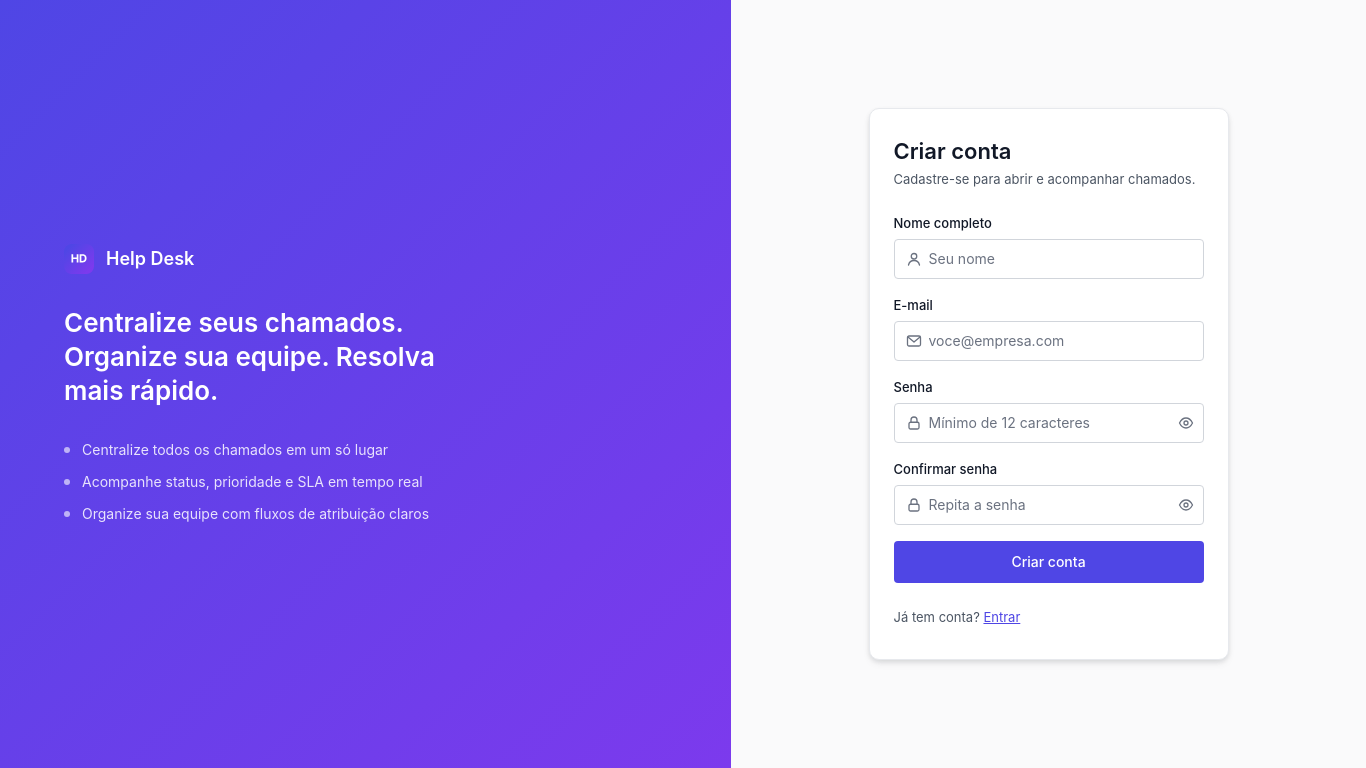
RegisterPage › valida campos obrigatórios e senha curta
The width and height of the screenshot is (1366, 768).
Click the button "Criar conta" at x=1048, y=562, box [894,541,1204,583]
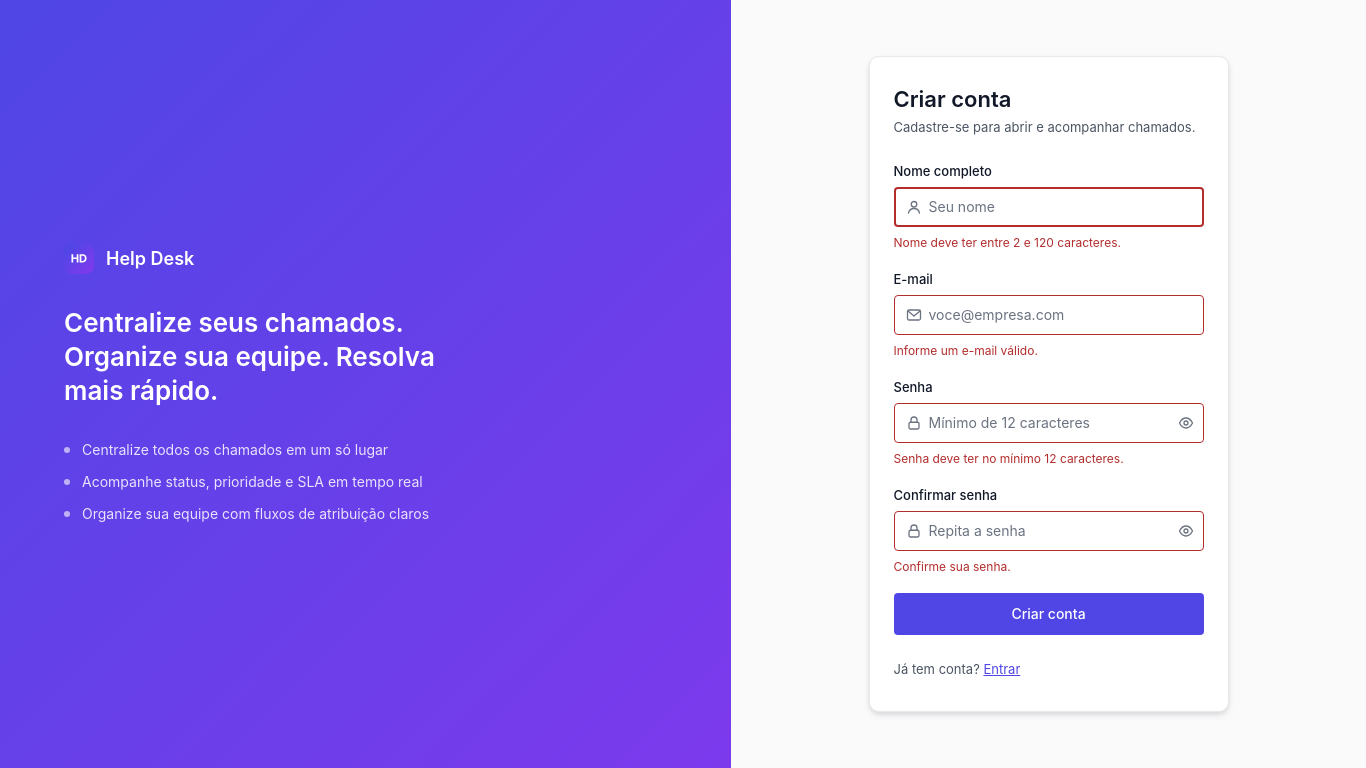
Now the text "Nome deve ter entre 2 e 120 caracteres." is shown, box [894,235,1121,250]
Now the text "Informe um e-mail válido." is shown, box [894,343,1038,358]
Now the text "Senha deve ter no mínimo 12 caracteres." is shown, box [894,451,1124,466]
